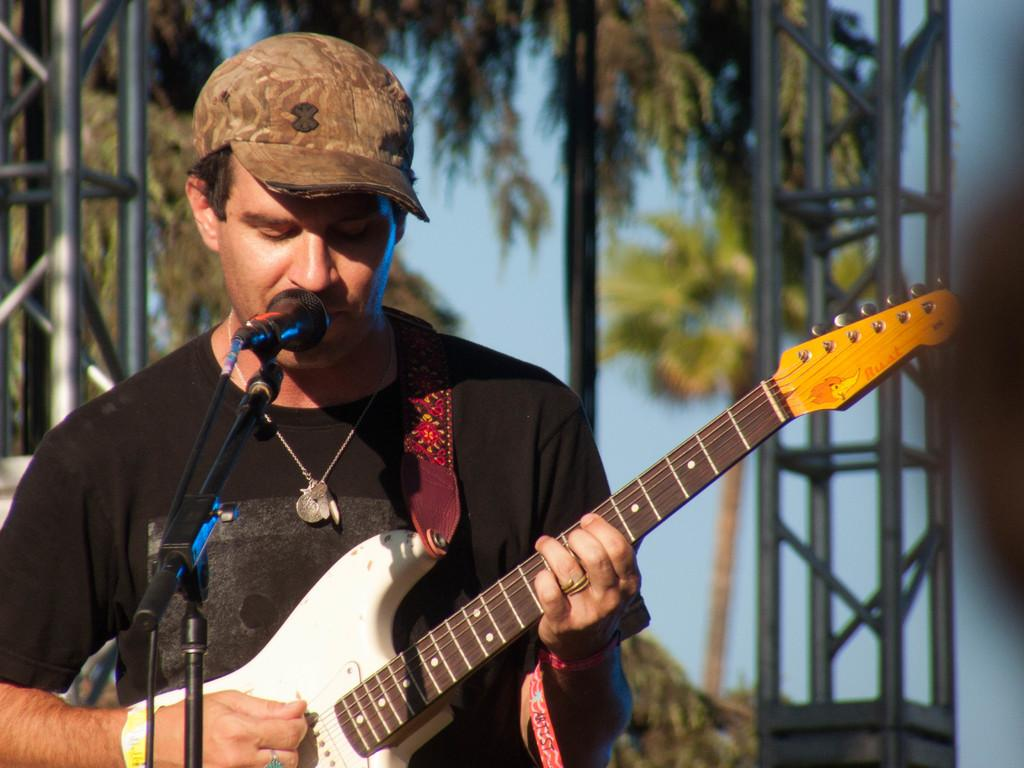Hat: (192, 30, 430, 219)
